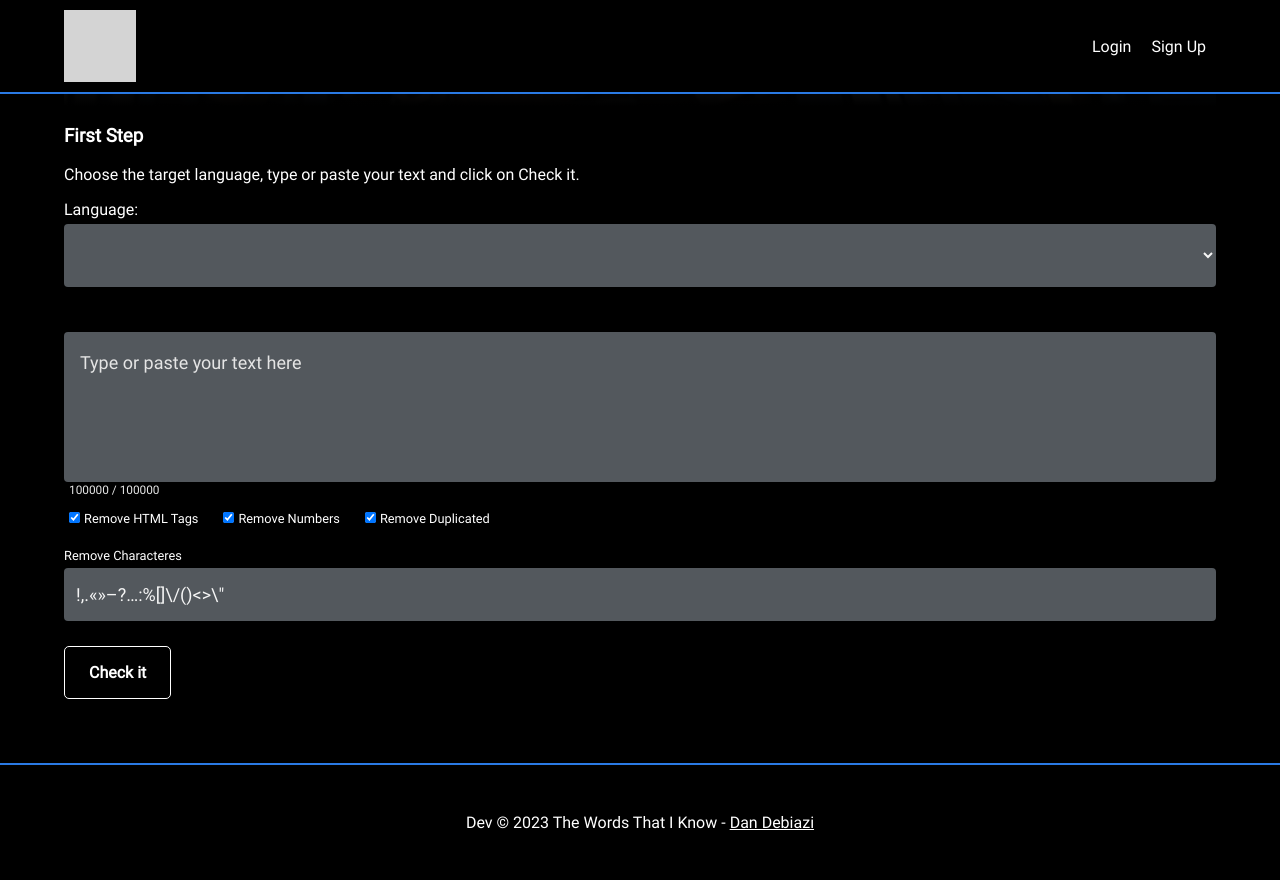
Test: Validade Check it button › Textbox area empty
(page scrolled)
Expected: the text box with placeholder "Type or paste your text here" is empty, [64, 332, 1216, 482]
Click the button with id "btnCheckWords" at (118, 673), box [64, 646, 171, 699]
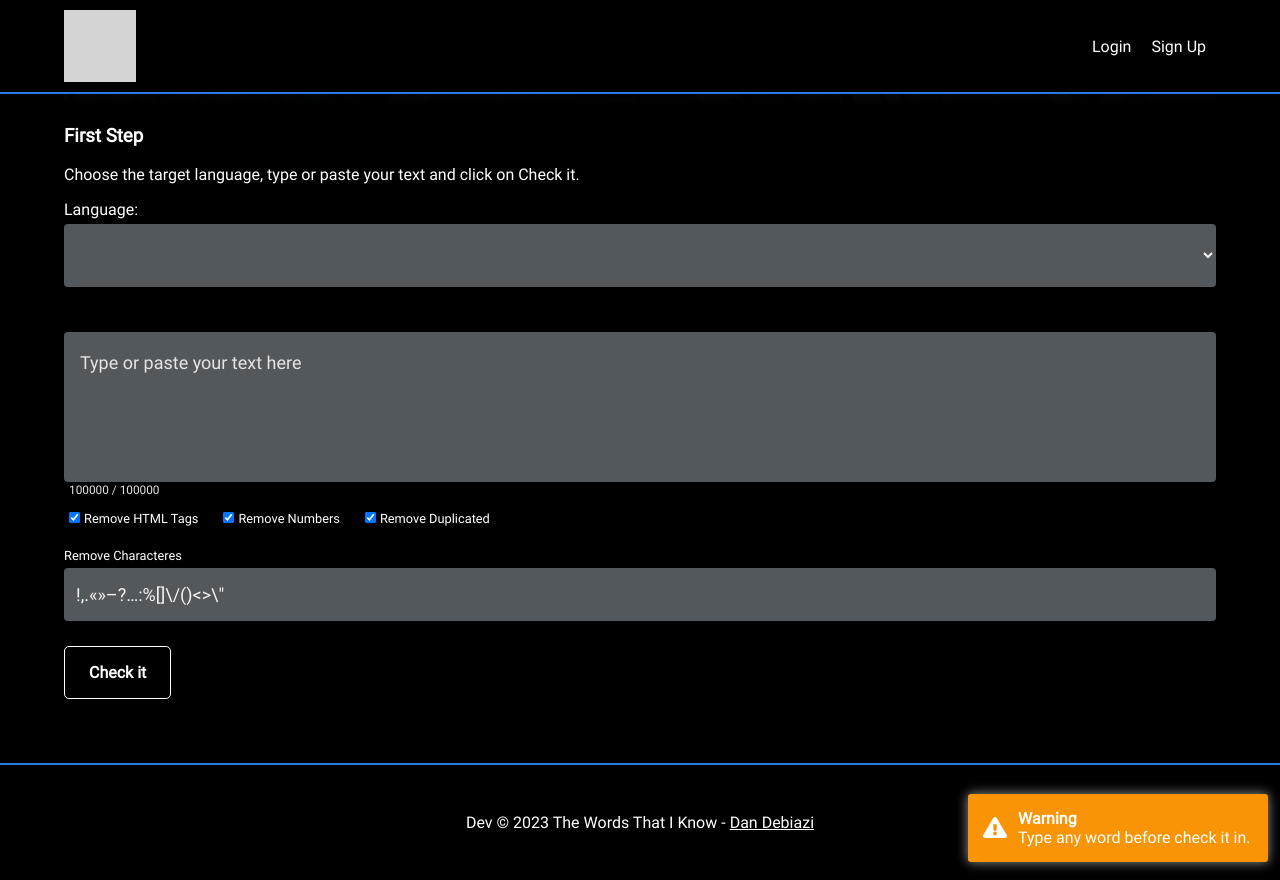
Expected: the message with class "toast-message" reads "Type any word before check it in.", [1018, 828, 1253, 847]
